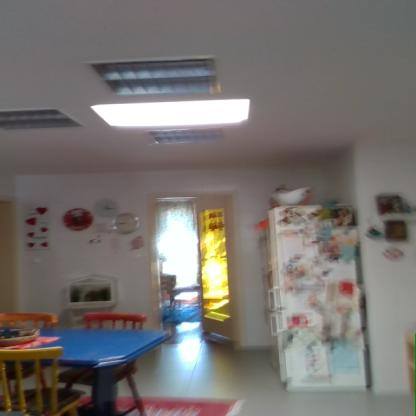semi: (150, 190, 233, 356)
